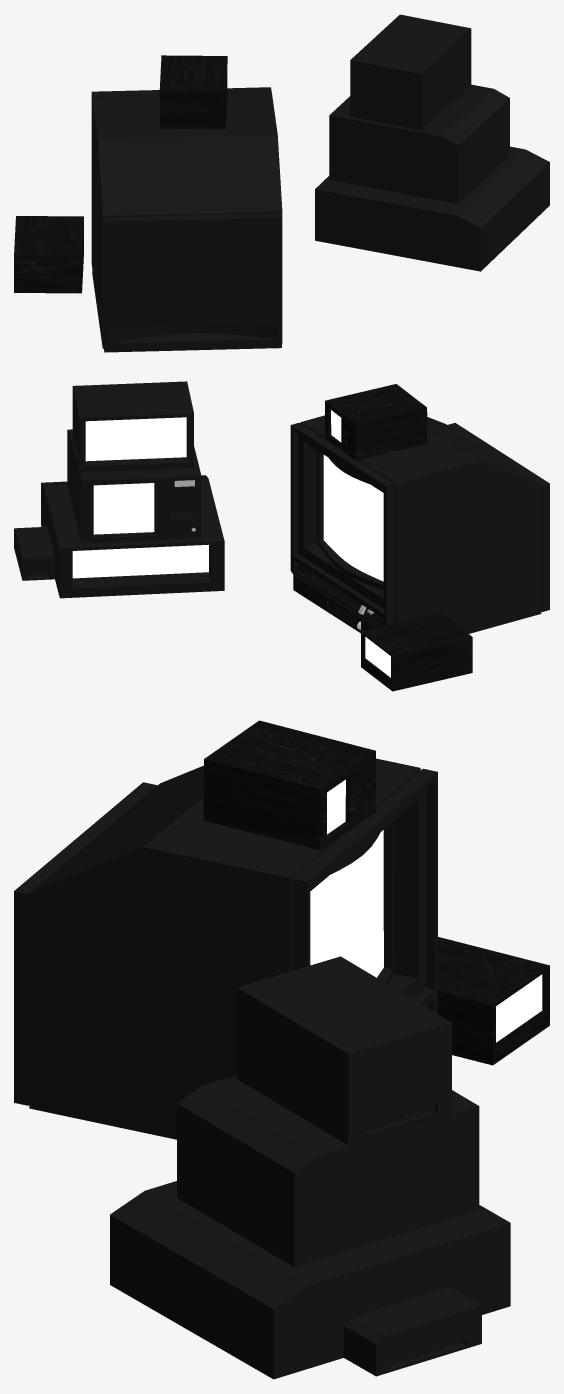
The model's file is MAIN MENU.glb.
The picture shows the model from 3 angles, top to bottom: view 1: azimuth 30°, elevation 25°; view 2: azimuth 150°, elevation 25°; view 3: azimuth 270°, elevation 25°; orthographic projection. The views are drawn at different scales.
Visible parts, largest first — view 1: Cube, Cube.005, Cube.010, Cube.004, Cube.006, Cube.002; view 2: Cube, Cube.005, Cube.004, Cube.010, Cube.006, Cube.002; view 3: Cube, Cube.005, Cube.010, Cube.004, Cube.002, Cube.006.
Part boxes in pixels (x1,y1,x2,y2): Cube: (91,87,282,352); Cube.005: (315,146,549,271); Cube.010: (329,84,509,203); Cube.004: (350,14,471,130); Cube.006: (14,216,83,293); Cube.002: (159,55,227,129); Cube: (290,415,549,633); Cube.005: (14,475,224,598); Cube.004: (72,381,193,472); Cube.010: (67,429,201,543); Cube.006: (361,612,472,691); Cube.002: (325,384,427,460); Cube: (14,758,437,1139); Cube.005: (110,1181,510,1379); Cube.010: (177,1075,479,1267); Cube.004: (237,956,451,1145); Cube.002: (203,720,375,850); Cube.006: (438,937,549,1065).
Size of what is drawn, in the model's own units: 5.88 by 2.46 by 3.43.
Materials: 4 (1 with a texture image).
